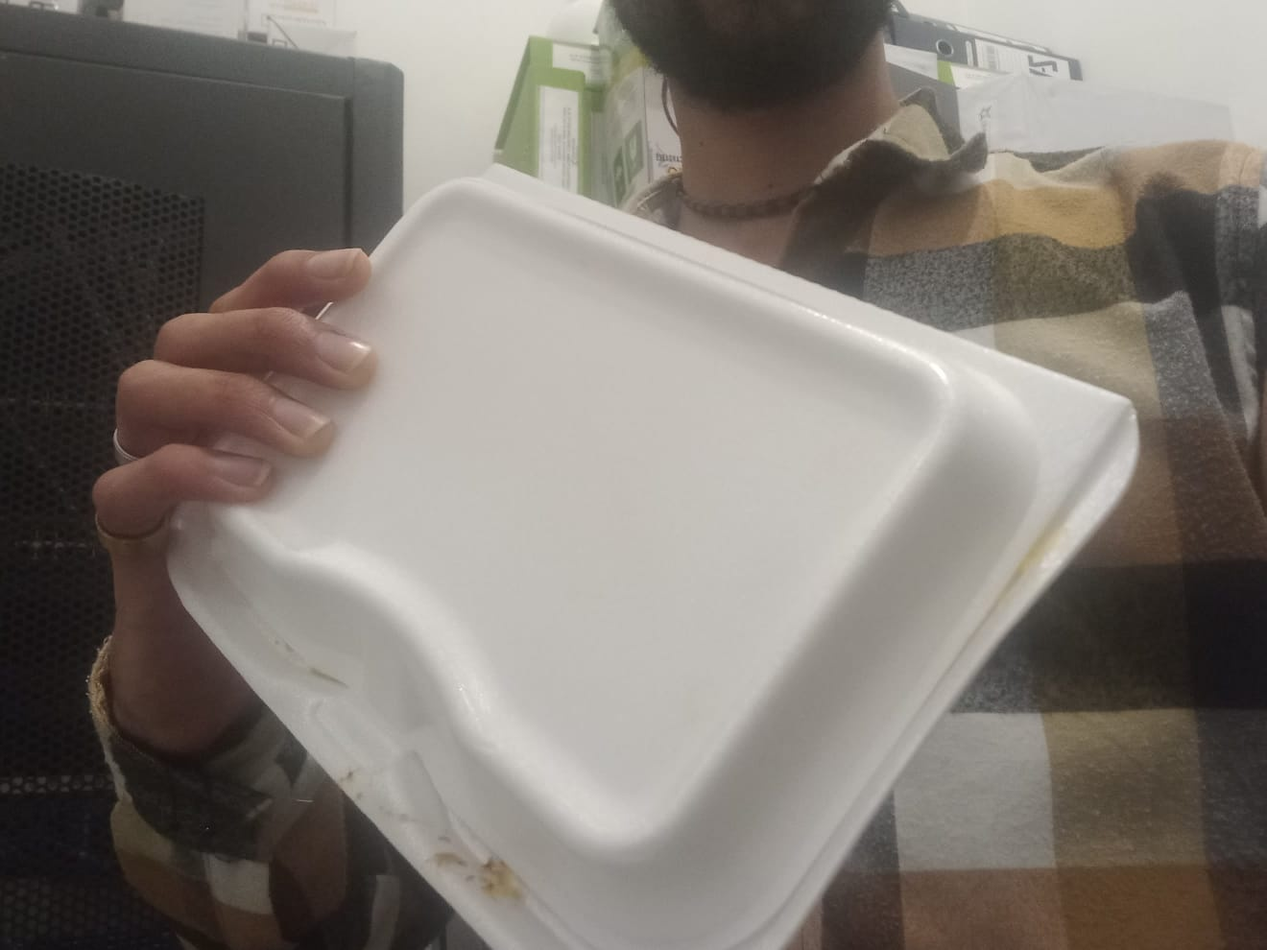Ordinario: (162, 164, 1137, 950)
